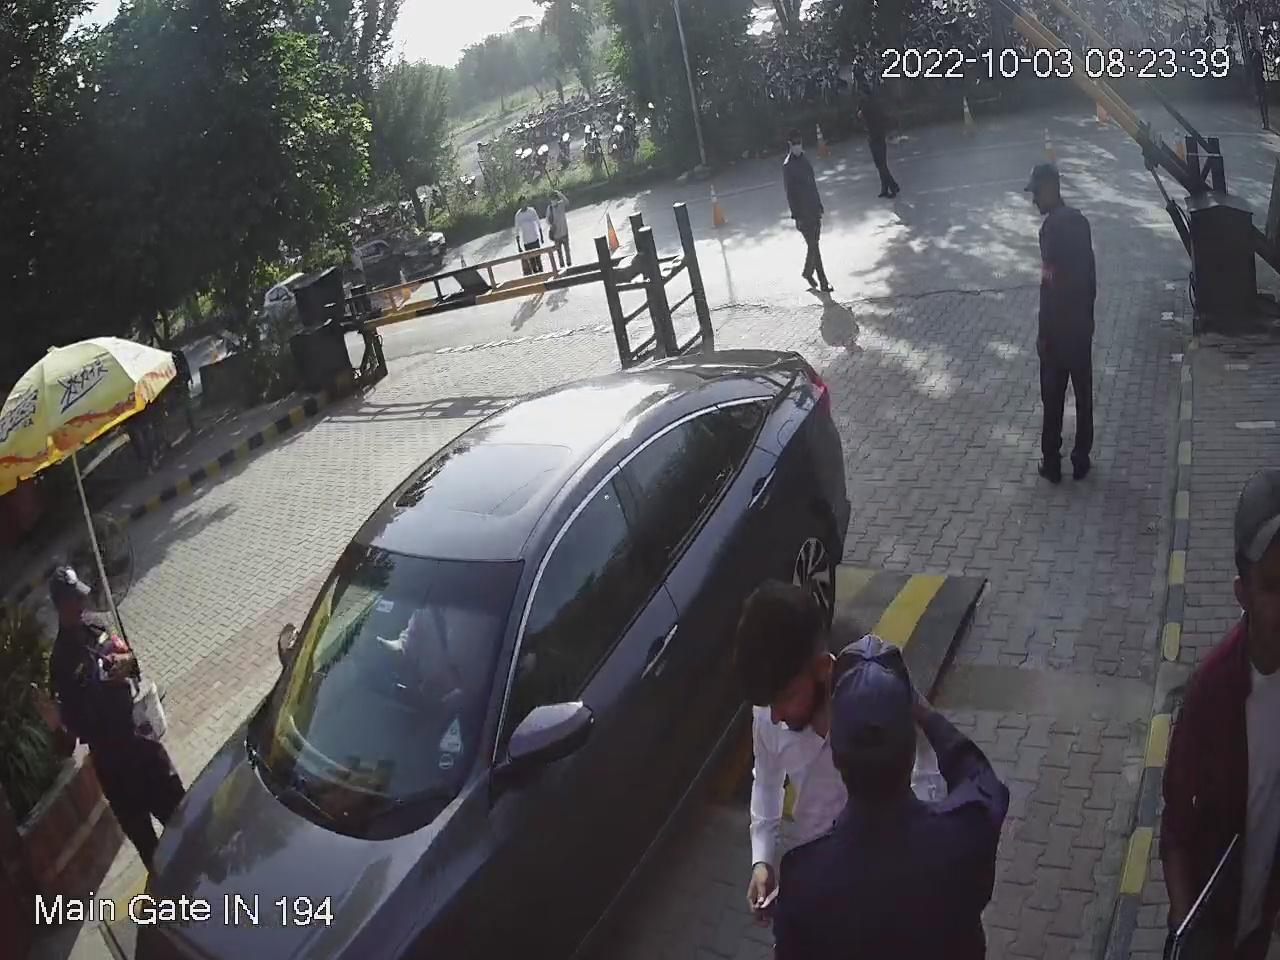windshield: (241, 527, 538, 828)
